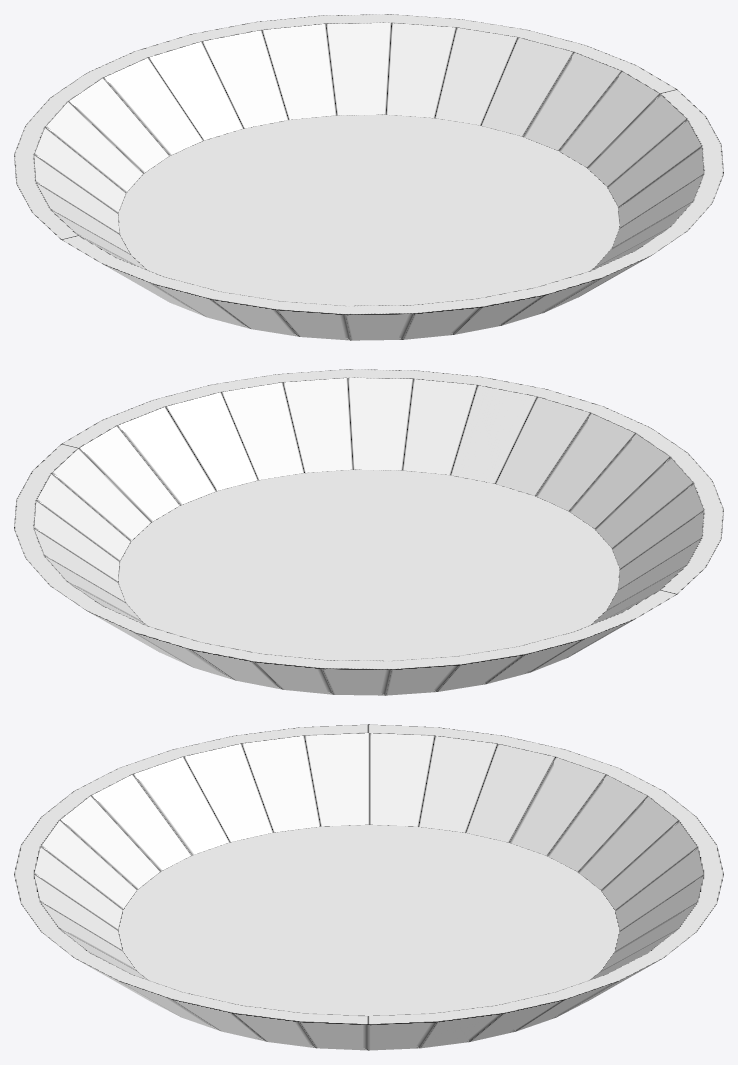
The model's file is prato.glb.
3 renders of one model, top to bottom at view 1: azimuth 30°, elevation 25°; view 2: azimuth 150°, elevation 25°; view 3: azimuth 270°, elevation 25°, orthographic.
Parts seen in each view (by area): view 1: Cylinder; view 2: Cylinder; view 3: Cylinder.
Part boxes in pixels (x1,y1,x2,y2): Cylinder: (14, 14, 723, 340); Cylinder: (14, 369, 723, 695); Cylinder: (14, 724, 723, 1050).
Bounding box in the file's own units: 2 × 0.2 × 2.
1 material, 1 textured.
